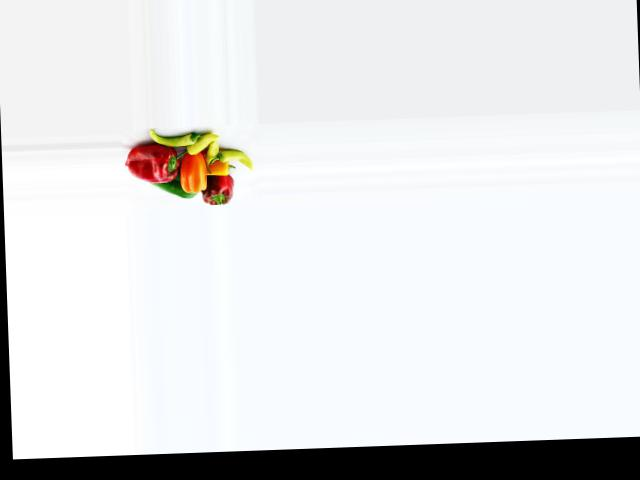bell_pepper: (145, 128, 205, 147)
